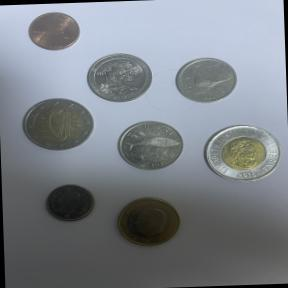coin: (198, 120, 284, 187), (106, 190, 190, 254), (20, 95, 96, 155), (112, 118, 190, 174), (83, 48, 155, 106), (20, 6, 88, 58), (40, 177, 100, 226)
